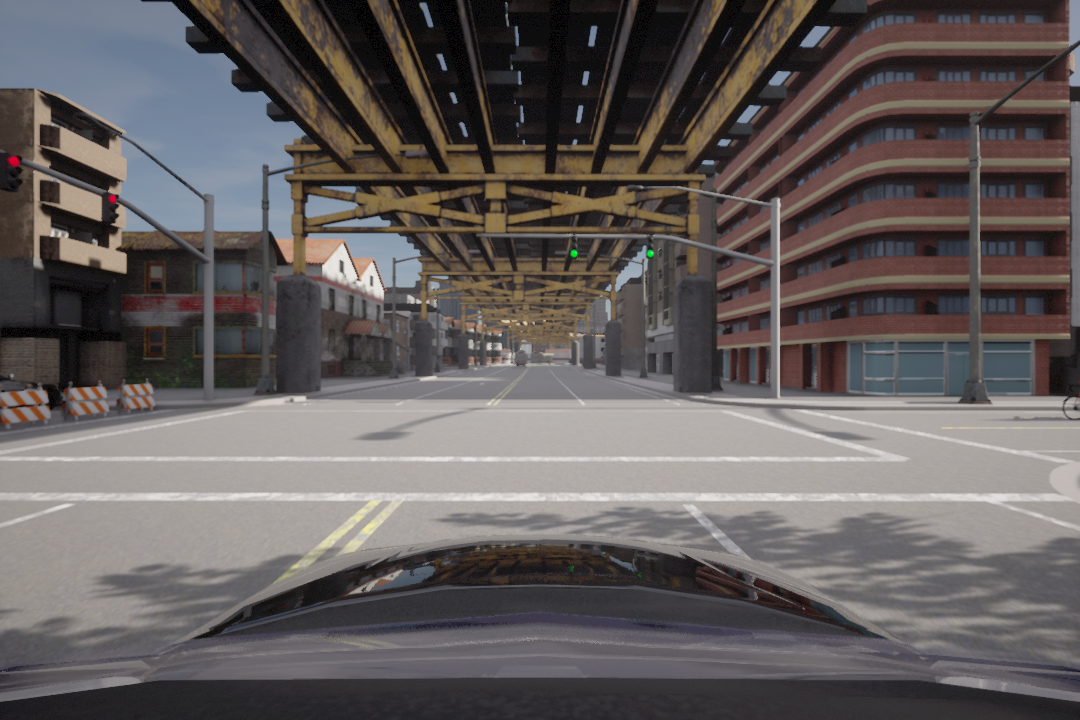TrafficLight: (4, 151, 22, 192), (104, 191, 121, 233), (567, 229, 580, 260), (644, 232, 656, 261)
